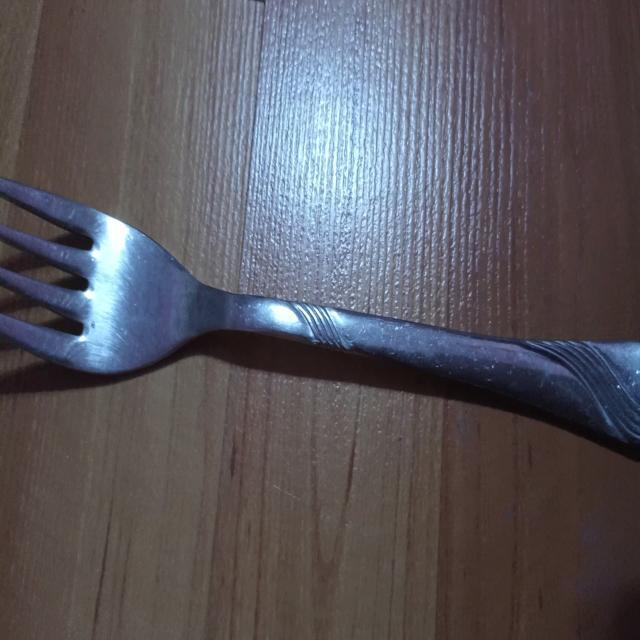spoon: (0, 176, 640, 443)
